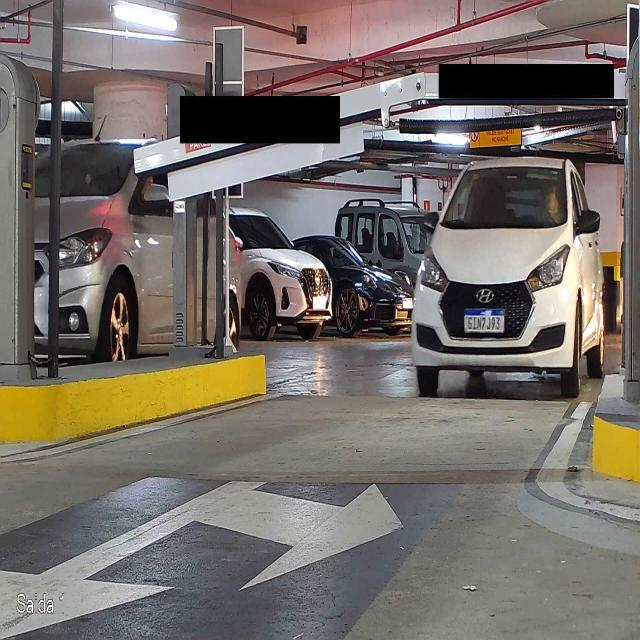mercosul_plate: (463, 307, 506, 334)
